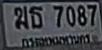0: (66, 5, 74, 26)
7: (53, 5, 62, 27), (87, 4, 96, 25)
8: (77, 4, 86, 25)
A06: (13, 6, 28, 29)
A24: (29, 5, 42, 28)
